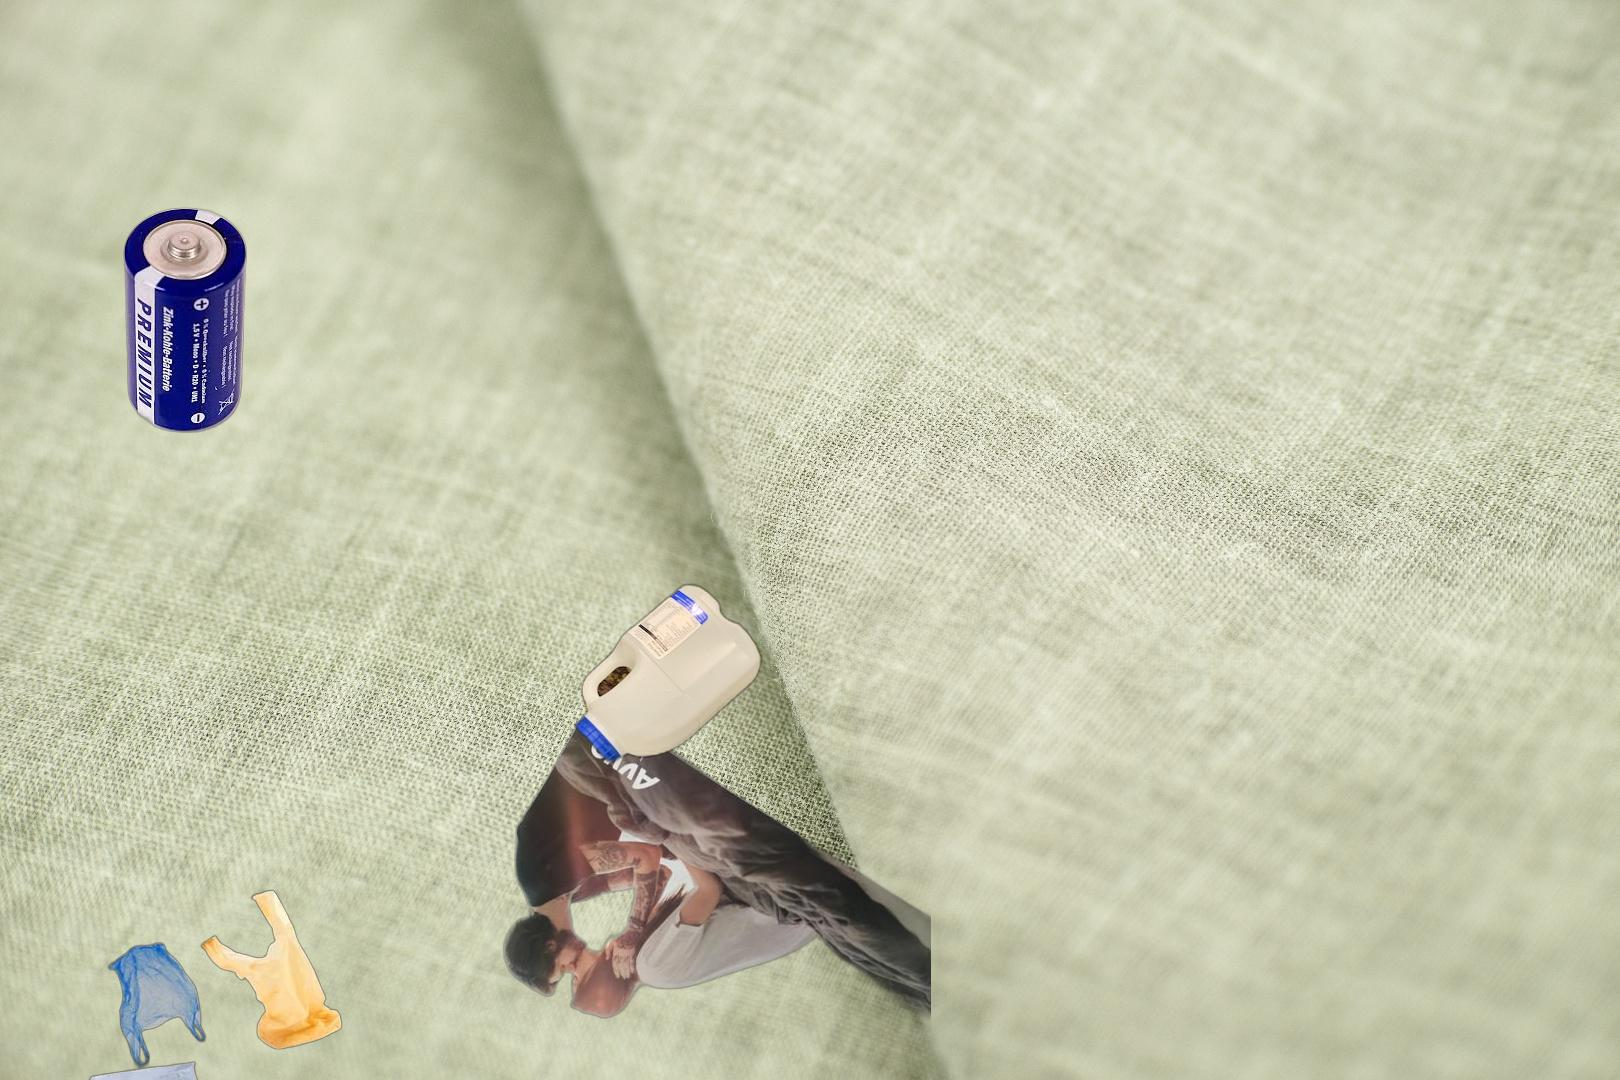battery: (121, 205, 250, 435)
paper: (499, 726, 931, 1080)
plastic-bag: (78, 887, 344, 1080)
plastic-bottles: (571, 579, 800, 879)
